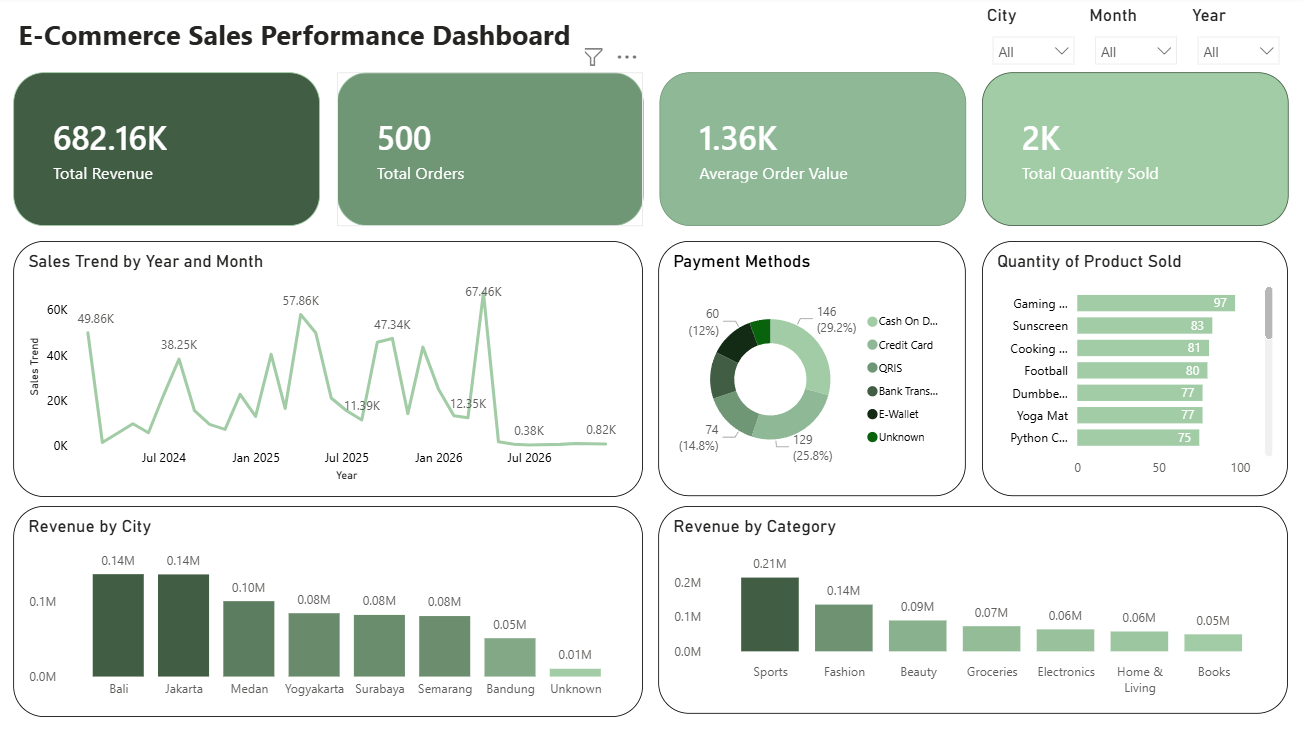

The page's visual inventory and layout, read from the dashboard file:
{"tool":"powerbi","page":{"name":"Page 1","canvas":[1280,720],"ordinal":0},"visuals":[{"type":"columnChart","title":"Revenue by Category","fields":{"Y":["Sum(ecommerce_sales_data sales_data_staging3.total_price)"],"Category":["ecommerce_sales_data sales_data_staging3.product_category"]},"box":[646.9,498.9,616.3,203],"z":0},{"type":"lineChart","fields":{"Category":["ecommerce_sales_data sales_data_staging3.order_date.Variation.Date Hierarchy.Year","ecommerce_sales_data sales_data_staging3.order_date.Variation.Date Hierarchy.Month","ecommerce_sales_data sales_data_staging3.order_date.Variation.Date Hierarchy.Day"],"Y":["Sum(ecommerce_sales_data sales_data_staging3.total_price)"]},"box":[15.9,240,616.3,250],"z":1000},{"type":"columnChart","title":"Revenue by City","fields":{"Y":["Sum(ecommerce_sales_data sales_data_staging3.total_price)"],"Category":["ecommerce_sales_data sales_data_staging3.city"]},"box":[15.9,498.9,616.3,206.7],"z":2000},{"type":"donutChart","title":"Payment Methods","fields":{"Category":["ecommerce_sales_data sales_data_staging3.payment_method"],"Y":["CountNonNull(ecommerce_sales_data sales_data_staging3.payment_method)"]},"box":[646.9,240,300.8,249.5],"z":3000},{"type":"barChart","title":"Quantity of Product Sold","fields":{"Category":["ecommerce_sales_data sales_data_staging3.product_name"],"Y":["Sum(ecommerce_sales_data sales_data_staging3.quantity)"]},"box":[963.6,239.7,299.6,249.5],"z":4000},{"type":"cardVisual","fields":{"Data":["Sum(ecommerce_sales_data sales_data_staging3.total_price)"]},"box":[16,75,300,150],"z":5000},{"type":"cardVisual","fields":{"Data":["Sum(ecommerce_sales_data sales_data_staging3.quantity)"]},"box":[964,75,300,150.4],"z":6000},{"type":"cardVisual","fields":{"Data":["Avg(ecommerce_sales_data sales_data_staging3.total_price)"]},"box":[648,75,300,150],"z":7000},{"type":"cardVisual","fields":{"Data":["Count(ecommerce_sales_data sales_data_staging3.order_id)"]},"box":[332,75,300,150],"z":8000},{"type":"textbox","box":[15.9,14.7,558.8,50.1],"z":8001},{"type":"slicer","title":"City","fields":{"Values":["ecommerce_sales_data sales_data_staging3.city"]},"box":[963.6,8.6,100.3,59.9],"z":8002},{"type":"slicer","title":"Month","fields":{"Values":["ecommerce_sales_data sales_data_staging3.order_date.Variation.Date Hierarchy.Month"]},"box":[1063.9,8.6,100.3,59.9],"z":8003},{"type":"slicer","title":"Year","fields":{"Values":["ecommerce_sales_data sales_data_staging3.order_date.Variation.Date Hierarchy.Year"]},"box":[1164.1,8.6,100.3,59.9],"z":8004}]}

Visuals, with their boxes in screenshot pixels (x1, y1, x2, y2), scaled from the page's 1280x720 canvas onto the 1303x731 screenshot:
"Revenue by Category" columnChart: {"left": 659, "top": 507, "right": 1286, "bottom": 713}
lineChart - ecommerce_sales_data sales_data_staging3.order_date.Variation.Date Hierarchy.Year x ecommerce_sales_data sales_data_staging3.order_date.Variation.Date Hierarchy.Month: {"left": 16, "top": 244, "right": 644, "bottom": 497}
"Revenue by City" columnChart: {"left": 16, "top": 507, "right": 644, "bottom": 716}
"Payment Methods" donutChart: {"left": 659, "top": 244, "right": 965, "bottom": 497}
"Quantity of Product Sold" barChart: {"left": 981, "top": 243, "right": 1286, "bottom": 497}
cardVisual - Sum(ecommerce_sales_data sales_data_staging3.total_price): {"left": 16, "top": 76, "right": 322, "bottom": 228}
cardVisual - Sum(ecommerce_sales_data sales_data_staging3.quantity): {"left": 981, "top": 76, "right": 1287, "bottom": 229}
cardVisual - Avg(ecommerce_sales_data sales_data_staging3.total_price): {"left": 660, "top": 76, "right": 965, "bottom": 228}
cardVisual - Count(ecommerce_sales_data sales_data_staging3.order_id): {"left": 338, "top": 76, "right": 643, "bottom": 228}
textbox: {"left": 16, "top": 15, "right": 585, "bottom": 66}
"City" slicer: {"left": 981, "top": 9, "right": 1083, "bottom": 70}
"Month" slicer: {"left": 1083, "top": 9, "right": 1185, "bottom": 70}
"Year" slicer: {"left": 1185, "top": 9, "right": 1287, "bottom": 70}
